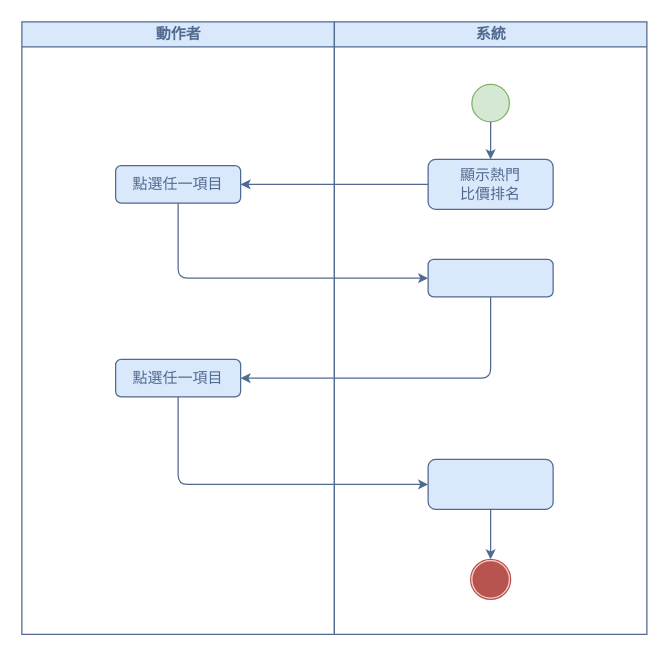
Some shapes in this 669 by 656 pixel diagram are drawn without their labels. Here are the shapes that lost their labels. From the top down, the box of each, then its label:
(427, 258, 553, 297): 顯示比價結果
(427, 458, 553, 509): 顯示該商品的 詳細資訊
